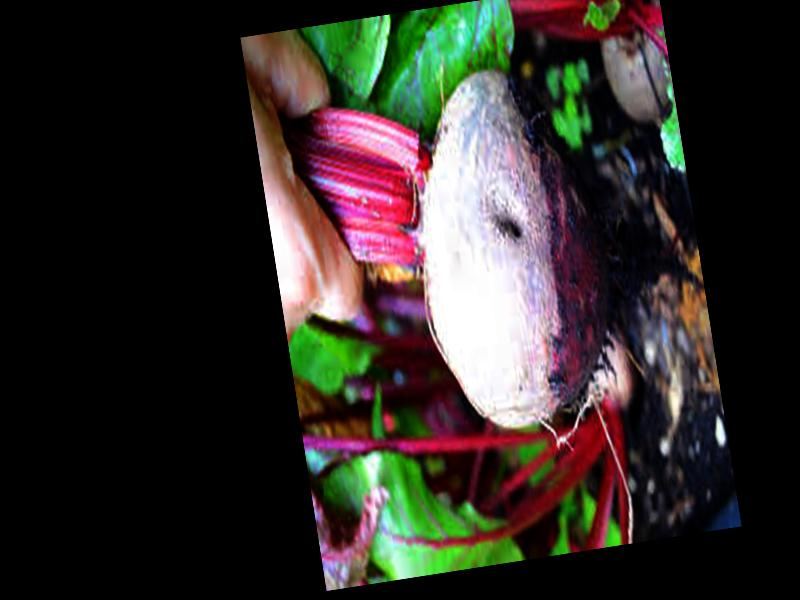Beet: (278, 42, 722, 460)
